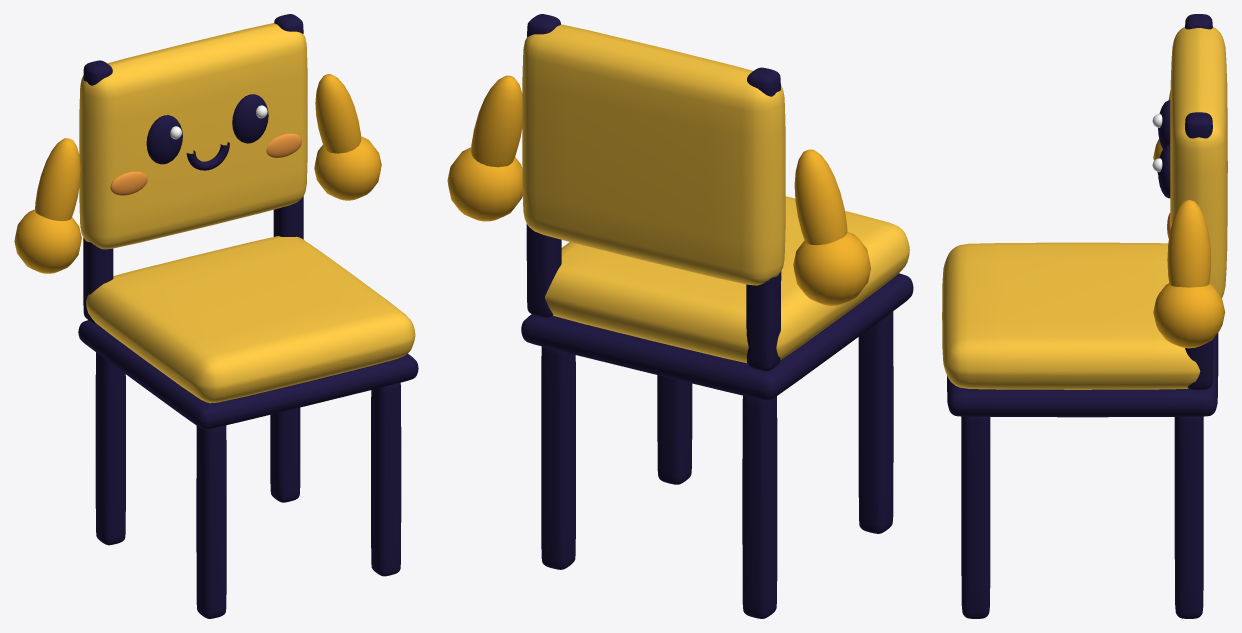
Rendered from chair.glb.
The picture shows the model from 3 angles, left to right: view 1: azimuth 30°, elevation 25°; view 2: azimuth 150°, elevation 25°; view 3: azimuth 270°, elevation 25°; orthographic projection. The views are drawn at different scales.
Parts seen in each view (by area): view 1: Спинка.002, Сиденье.002, Царга, Ножка.002, Ножка.004, Ножка.003, Ладошка L.003, Ладошка R.003, Рука L.003, Рука R.003, Ножка.005, Стойка (+5 smaller); view 2: Спинка.002, Сиденье.002, Царга, Ножка.003, Ножка.005, Ножка.002, Ладошка L.003, Ладошка R.003, Рука L.003, Стойка, Ножка.004, Рука R.003 (+1 smaller); view 3: Сиденье.002, Спинка.002, Царга, Ножка.004, Ножка.005, Ладошка R.003, Рука R.003, Стойка.001, Глаз R.003, Глаз L.003.
Boxes of the visible parts, <box> form: Спинка.002: <box>79,23,307,249</box>; Сиденье.002: <box>86,236,415,403</box>; Царга: <box>78,320,418,429</box>; Ножка.002: <box>196,425,226,618</box>; Ножка.004: <box>371,382,401,576</box>; Ножка.003: <box>95,352,125,545</box>; Ладошка L.003: <box>14,209,81,273</box>; Ладошка R.003: <box>314,136,381,200</box>; Рука L.003: <box>35,138,80,221</box>; Рука R.003: <box>315,74,361,153</box>; Ножка.005: <box>270,407,300,502</box>; Стойка: <box>83,60,113,323</box>; Спинка.002: <box>522,24,785,285</box>; Сиденье.002: <box>545,196,909,362</box>; Царга: <box>521,273,913,400</box>; Ножка.003: <box>742,395,777,618</box>; Ножка.005: <box>541,346,575,569</box>; Ножка.002: <box>858,311,893,533</box>; Ладошка L.003: <box>793,231,870,305</box>; Ладошка R.003: <box>447,147,522,221</box>; Рука L.003: <box>794,149,847,245</box>; Стойка: <box>746,67,781,371</box>; Ножка.004: <box>657,375,692,484</box>; Рука R.003: <box>471,75,522,167</box>; Сиденье.002: <box>942,242,1200,389</box>; Спинка.002: <box>1170,27,1227,297</box>; Царга: <box>947,333,1218,417</box>; Ножка.004: <box>961,416,990,618</box>; Ножка.005: <box>1174,416,1203,618</box>; Ладошка R.003: <box>1153,283,1225,348</box>; Рука R.003: <box>1167,199,1210,287</box>; Стойка.001: <box>1185,112,1213,389</box>; Глаз R.003: <box>1158,144,1170,198</box>; Глаз L.003: <box>1158,100,1170,148</box>.
Size of the model in its own units: 0.9045 by 1.15 by 0.5893.
